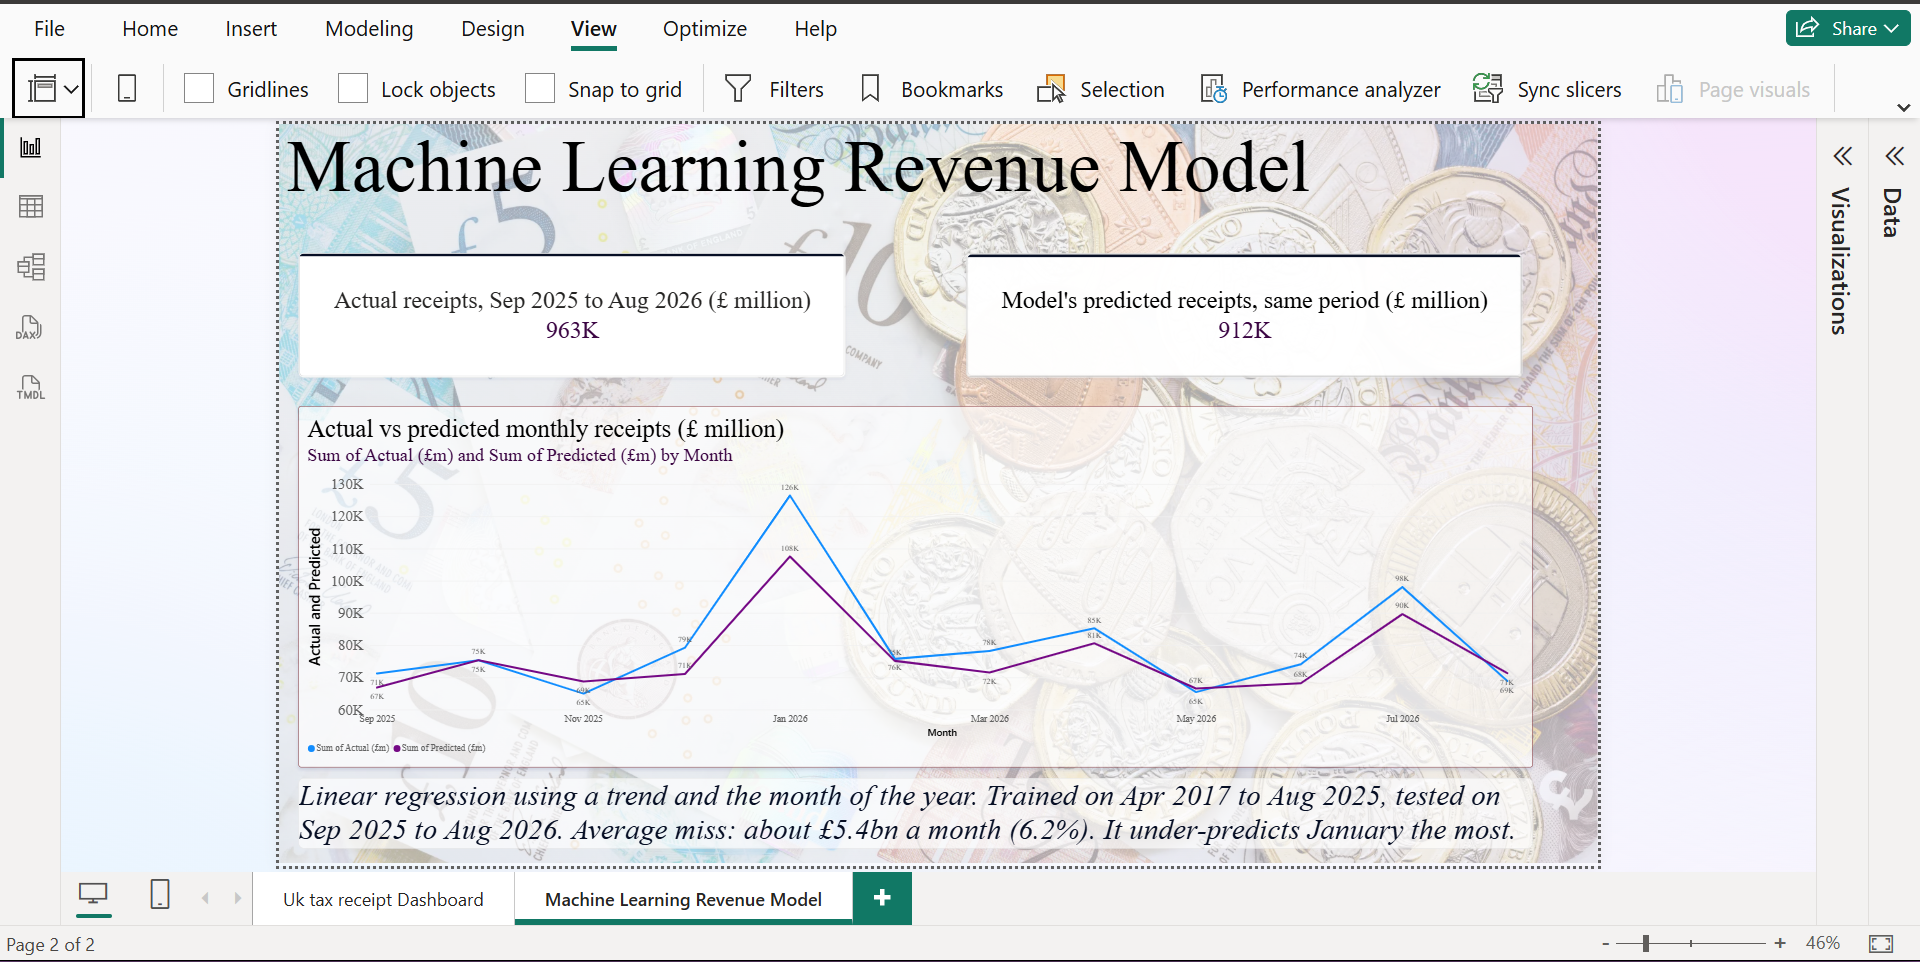

This screenshot's page, from the dashboard's own definition file:
{"tool":"powerbi","page":{"name":"Machine Learning Revenue Model","canvas":[1920,1080],"ordinal":1},"visuals":[{"type":"textbox","box":[10.9,0,1753.2,279.5],"z":0},{"type":"lineChart","title":"Actual vs predicted monthly receipts (£ million)","fields":{"Category":["model_predictions.Month"],"Y":["Sum(model_predictions.Actual (£m))","Sum(model_predictions.Predicted (£m))"]},"box":[28.4,410.5,1796.9,526.2],"z":1000},{"type":"cardVisual","title":" Actual receipts, Sep 2025 to Aug 2026 (£ million)","fields":{"Data":["Sum(model_predictions.Actual (£m))"]},"box":[28.4,187.8,796.9,181.2],"z":2000},{"type":"cardVisual","fields":{"Data":["Sum(model_predictions.Predicted (£m))"]},"box":[1000,187.8,810,181.2],"z":3000},{"type":"textbox","box":[1330,0,480,258],"z":4000},{"type":"textbox","box":[28.4,951.9,1796.9,102.6],"z":5000}]}

Visuals, with their boxes on the page's 1920x1080 design canvas (x1, y1, x2, y2). These are canvas units, not pixel positions in the 1920x962 screenshot, which may show the page scaled, cropped or inside an application window:
textbox: (left=11, top=0, right=1764, bottom=280)
"Actual vs predicted monthly receipts (£ million)" lineChart: (left=28, top=410, right=1825, bottom=937)
" Actual receipts, Sep 2025 to Aug 2026 (£ million)" cardVisual: (left=28, top=188, right=825, bottom=369)
cardVisual - Sum(model_predictions.Predicted (£m)): (left=1000, top=188, right=1810, bottom=369)
textbox: (left=1330, top=0, right=1810, bottom=258)
textbox: (left=28, top=952, right=1825, bottom=1054)
